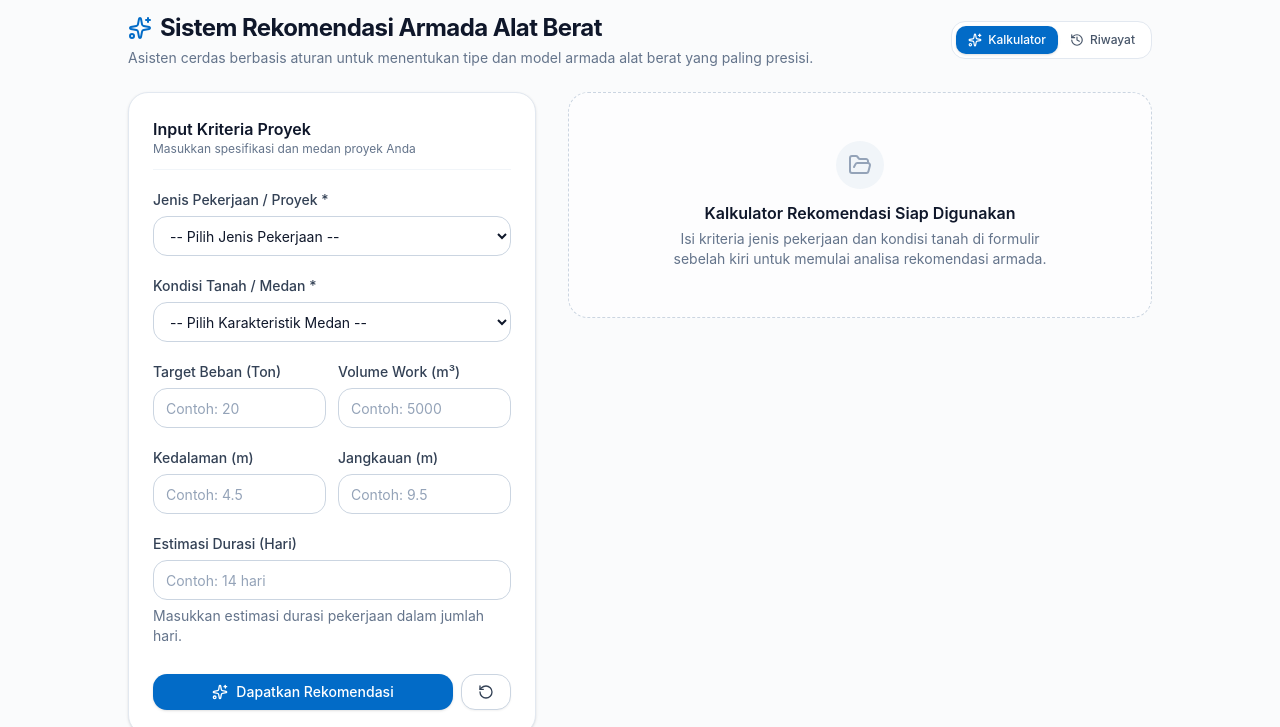
Test: Recommendation UI Suite › validates required fields before submission
Click the button "Dapatkan Rekomendasi": click(303, 692) left=153, top=674, right=453, bottom=710
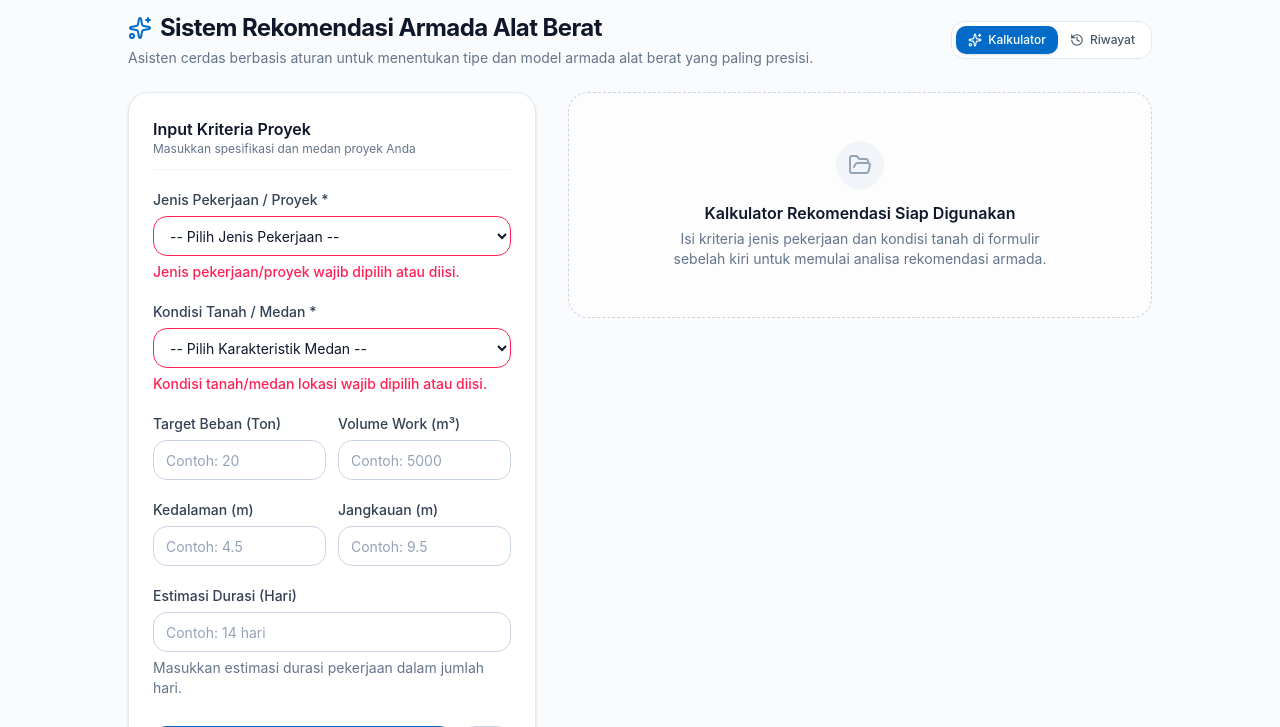
Expected: the text "Jenis pekerjaan/proyek wajib dipilih atau diisi." is shown, left=153, top=262, right=511, bottom=282
Expected: the text "Kondisi tanah/medan lokasi wajib dipilih atau diisi." is shown, left=153, top=374, right=511, bottom=394
